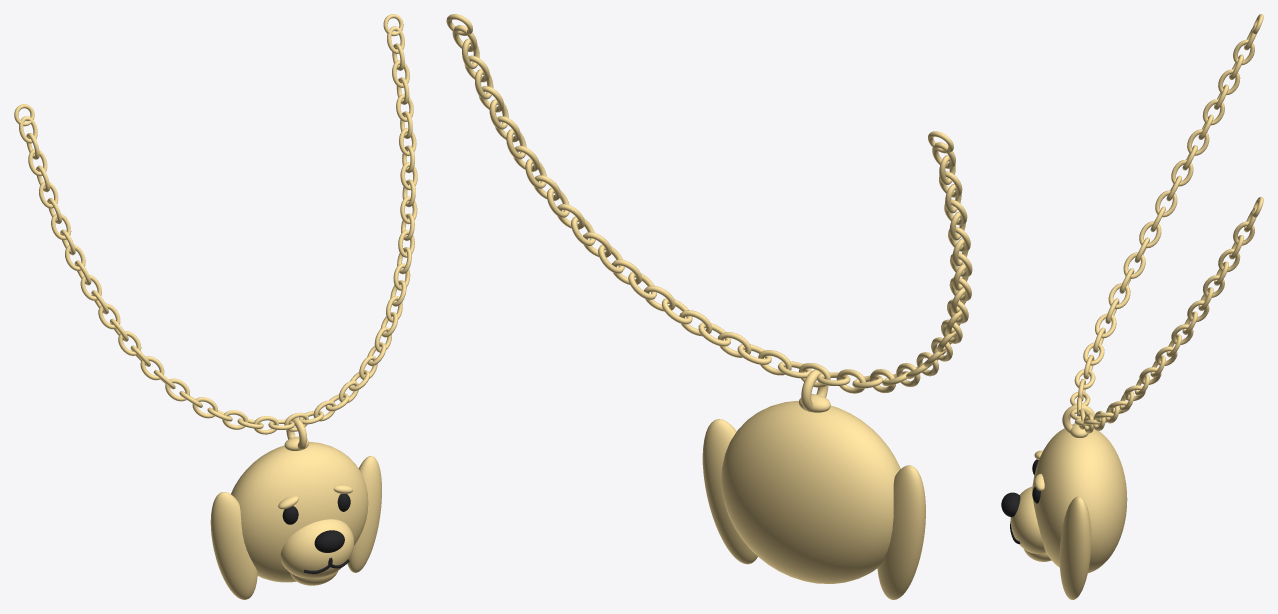
The model's file is collar.glb.
3 views of the same model, side by side, from view 1: azimuth 30°, elevation 25°; view 2: azimuth 150°, elevation 25°; view 3: azimuth 270°, elevation 25° (orthographic). The views are drawn at different scales.
Parts seen in each view (by area): view 1: Collar con dije de perro; view 2: Collar con dije de perro; view 3: Collar con dije de perro.
Part boxes in pixels (<box>): Collar con dije de perro: <box>14,14,417,599</box>; Collar con dije de perro: <box>446,14,972,599</box>; Collar con dije de perro: <box>1001,14,1263,599</box>.
Bounding box in the file's own units: 1.99 × 2.25 × 1.15.
